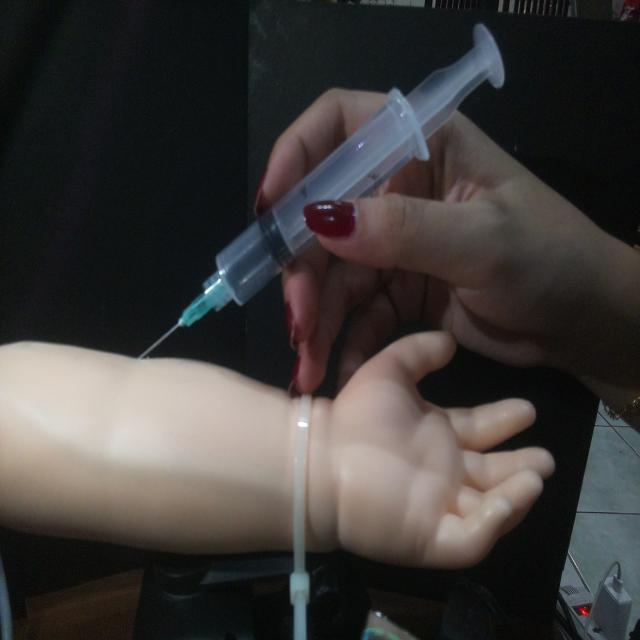29deg: (134, 20, 508, 361)
